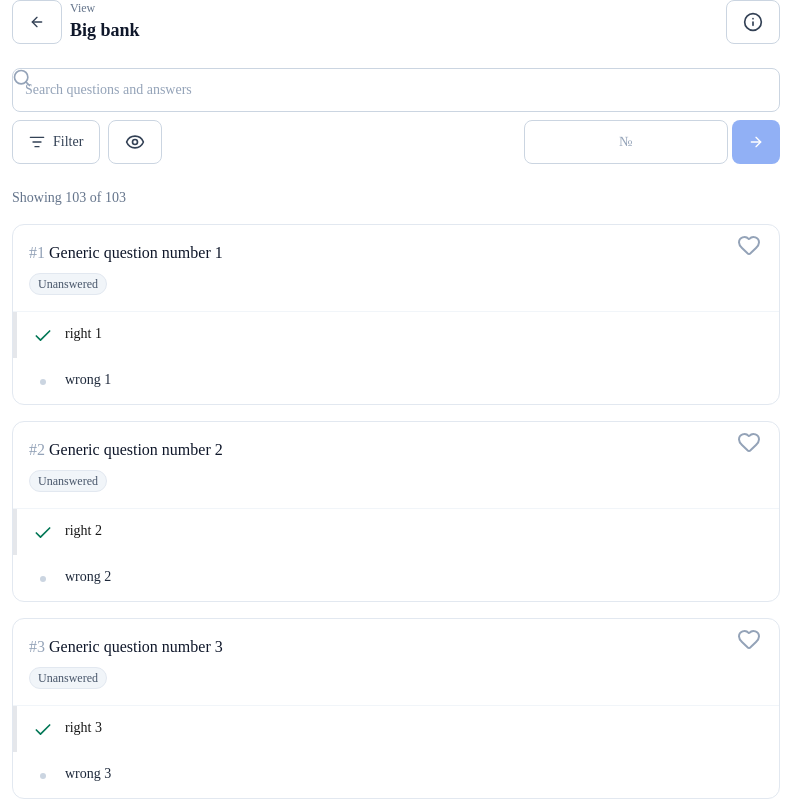
Test: go to a question number › draws far enough to include it and scrolls to it
The width and height of the screenshot is (801, 800).
Type "95" into the field named "Go to #". click: (626, 142)
box: x1=524 y1=120 x2=728 y2=164
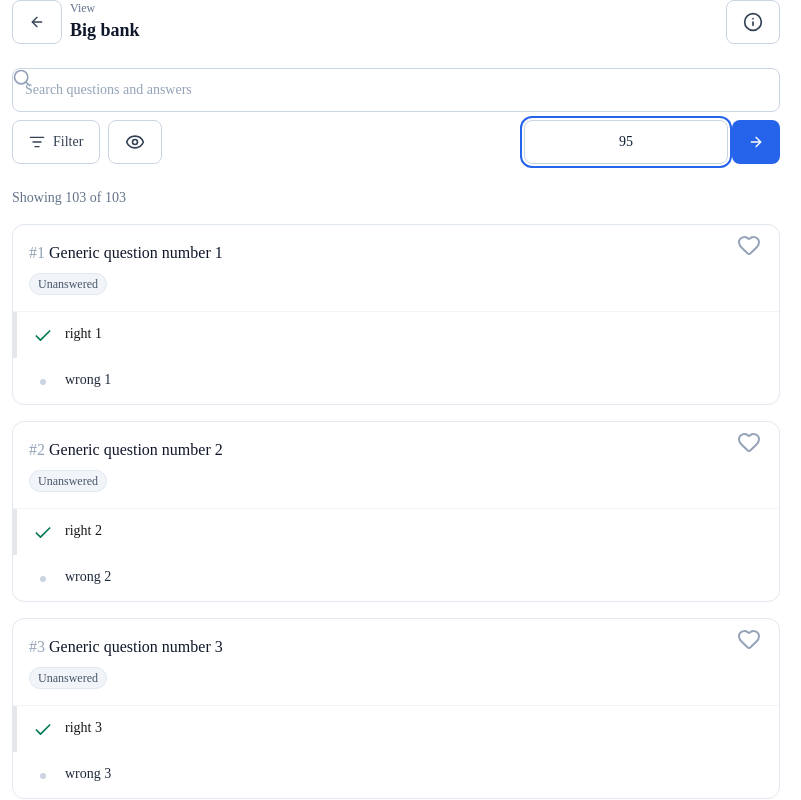
Click the button named "Go". click: (756, 142)
box: x1=732 y1=120 x2=780 y2=164
(page scrolled)
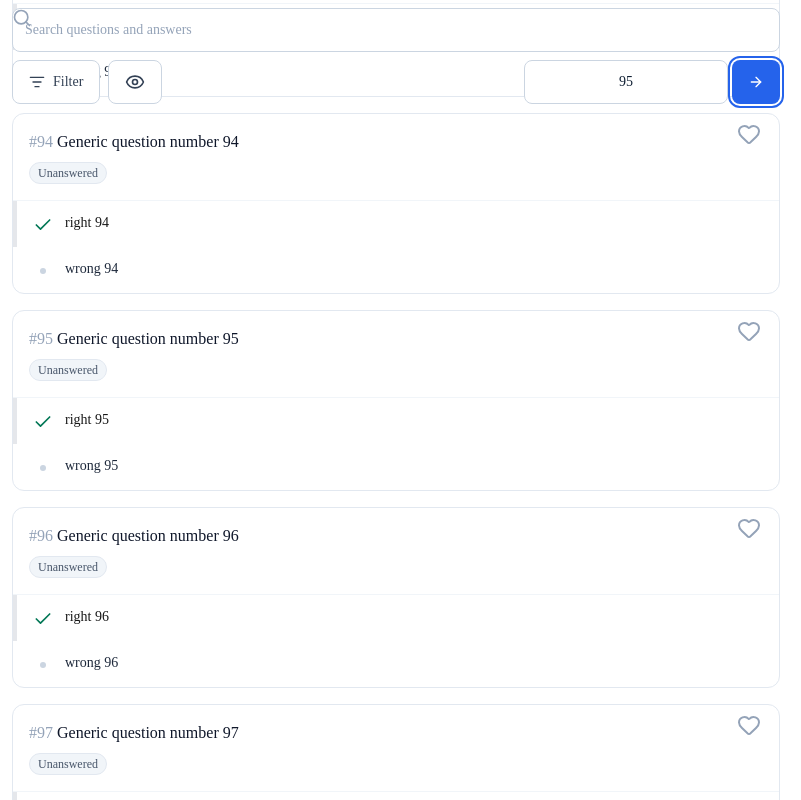
Now the list item "#95Generic question number 95 Unanswered right 95 wrong 95" is shown, box x1=12 y1=310 x2=780 y2=491
